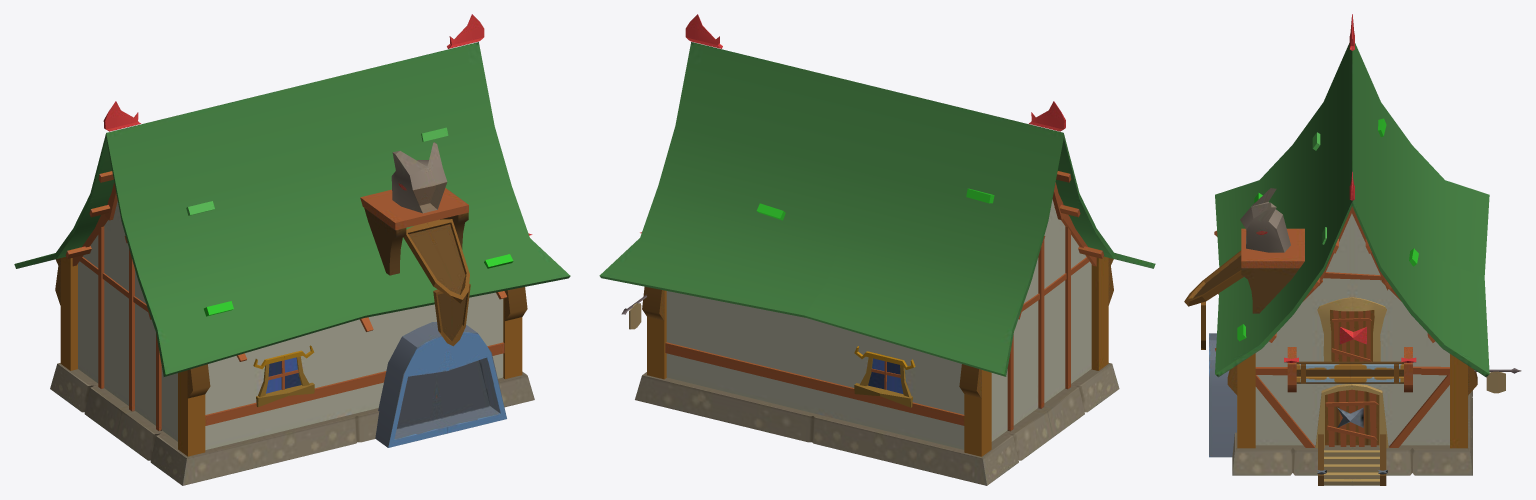
File: house4.glb
The picture shows the model from 3 angles, left to right: view 1: azimuth 30°, elevation 25°; view 2: azimuth 150°, elevation 25°; view 3: azimuth 270°, elevation 25°; orthographic projection. The views are drawn at different scales.
Visible parts, largest first — view 1: pCube2, pCube1, pCube3, pCube13, pCube65, pCube42, pCube8, pCube14, pCube79, pCube74, pCube10, pCube64 (+8 smaller); view 2: pCube2, pCube1, pCube3, pCube75, pCube74, pCube79, pCube76, pCube41, polySurface18, pCube77, pCube78, pCube33 (+2 smaller); view 3: pCube2, pCube1, pCube3, pCube13, pCube42, pCube29, pCube4, pCube39, pCube8, pCube76, pCube50, pCube17 (+10 smaller).
Boxes of the visible parts, left/top/right/bottom form: pCube2: left=14, top=42, right=570, bottom=376; pCube1: left=78, top=201, right=503, bottom=449; pCube3: left=50, top=363, right=534, bottom=485; pCube13: left=375, top=322, right=506, bottom=447; pCube65: left=403, top=219, right=469, bottom=303; pCube42: left=391, top=142, right=447, bottom=213; pCube8: left=360, top=188, right=468, bottom=230; pCube14: left=205, top=342, right=504, bottom=425; pCube79: left=60, top=257, right=77, bottom=370; pCube74: left=178, top=370, right=205, bottom=456; pCube10: left=433, top=284, right=470, bottom=346; pCube64: left=364, top=208, right=406, bottom=275; pCube2: left=599, top=42, right=1155, bottom=376; pCube1: left=666, top=199, right=1091, bottom=449; pCube3: left=635, top=363, right=1119, bottom=485; pCube75: left=665, top=342, right=964, bottom=425; pCube74: left=1091, top=256, right=1108, bottom=370; pCube79: left=964, top=370, right=991, bottom=456; pCube76: left=647, top=290, right=666, bottom=379; pCube41: left=1038, top=240, right=1044, bottom=408; polySurface18: left=1065, top=226, right=1070, bottom=389; pCube77: left=642, top=286, right=664, bottom=321; pCube78: left=959, top=364, right=981, bottom=398; pCube33: left=685, top=14, right=722, bottom=48; pCube2: left=1215, top=43, right=1489, bottom=377; pCube1: left=1255, top=213, right=1449, bottom=445; pCube3: left=1232, top=390, right=1472, bottom=475; pCube13: left=1209, top=333, right=1236, bottom=457; pCube42: left=1240, top=188, right=1290, bottom=252; pCube29: left=1324, top=450, right=1379, bottom=485; pCube4: left=1237, top=353, right=1255, bottom=448; pCube39: left=1317, top=297, right=1386, bottom=361; pCube8: left=1241, top=228, right=1304, bottom=268; pCube76: left=1450, top=354, right=1467, bottom=448; pCube50: left=1241, top=268, right=1299, bottom=313; pCube17: left=1296, top=361, right=1403, bottom=383.
Bounding box in the file's own units: 2.8 × 2.22 × 2.23.
Materials: 1 (1 with a texture image).
